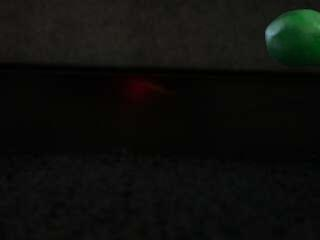Lime: (265, 7, 320, 70)
